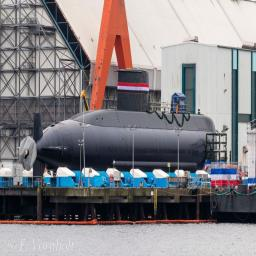submarine: (23, 69, 220, 182)
